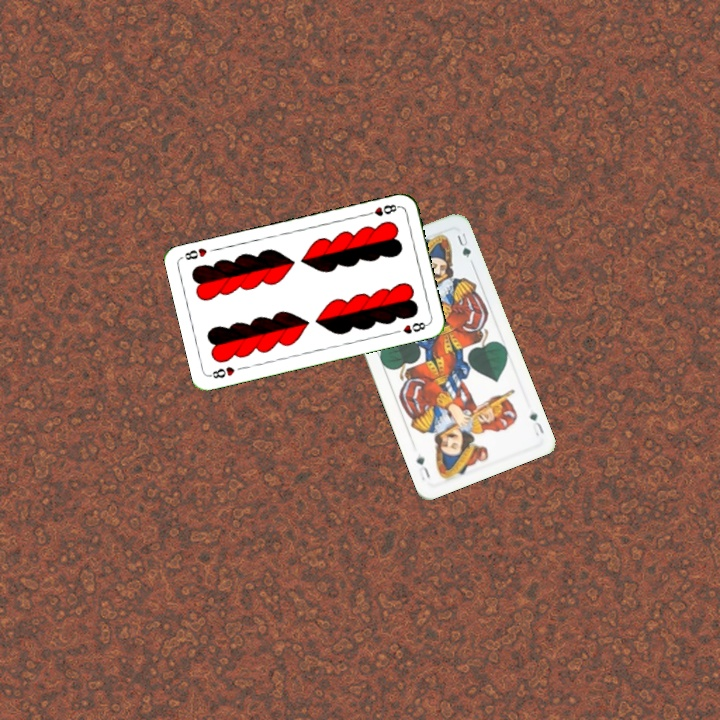GU: (525, 408, 547, 439)
H8: (362, 200, 402, 219), (206, 362, 237, 381)
